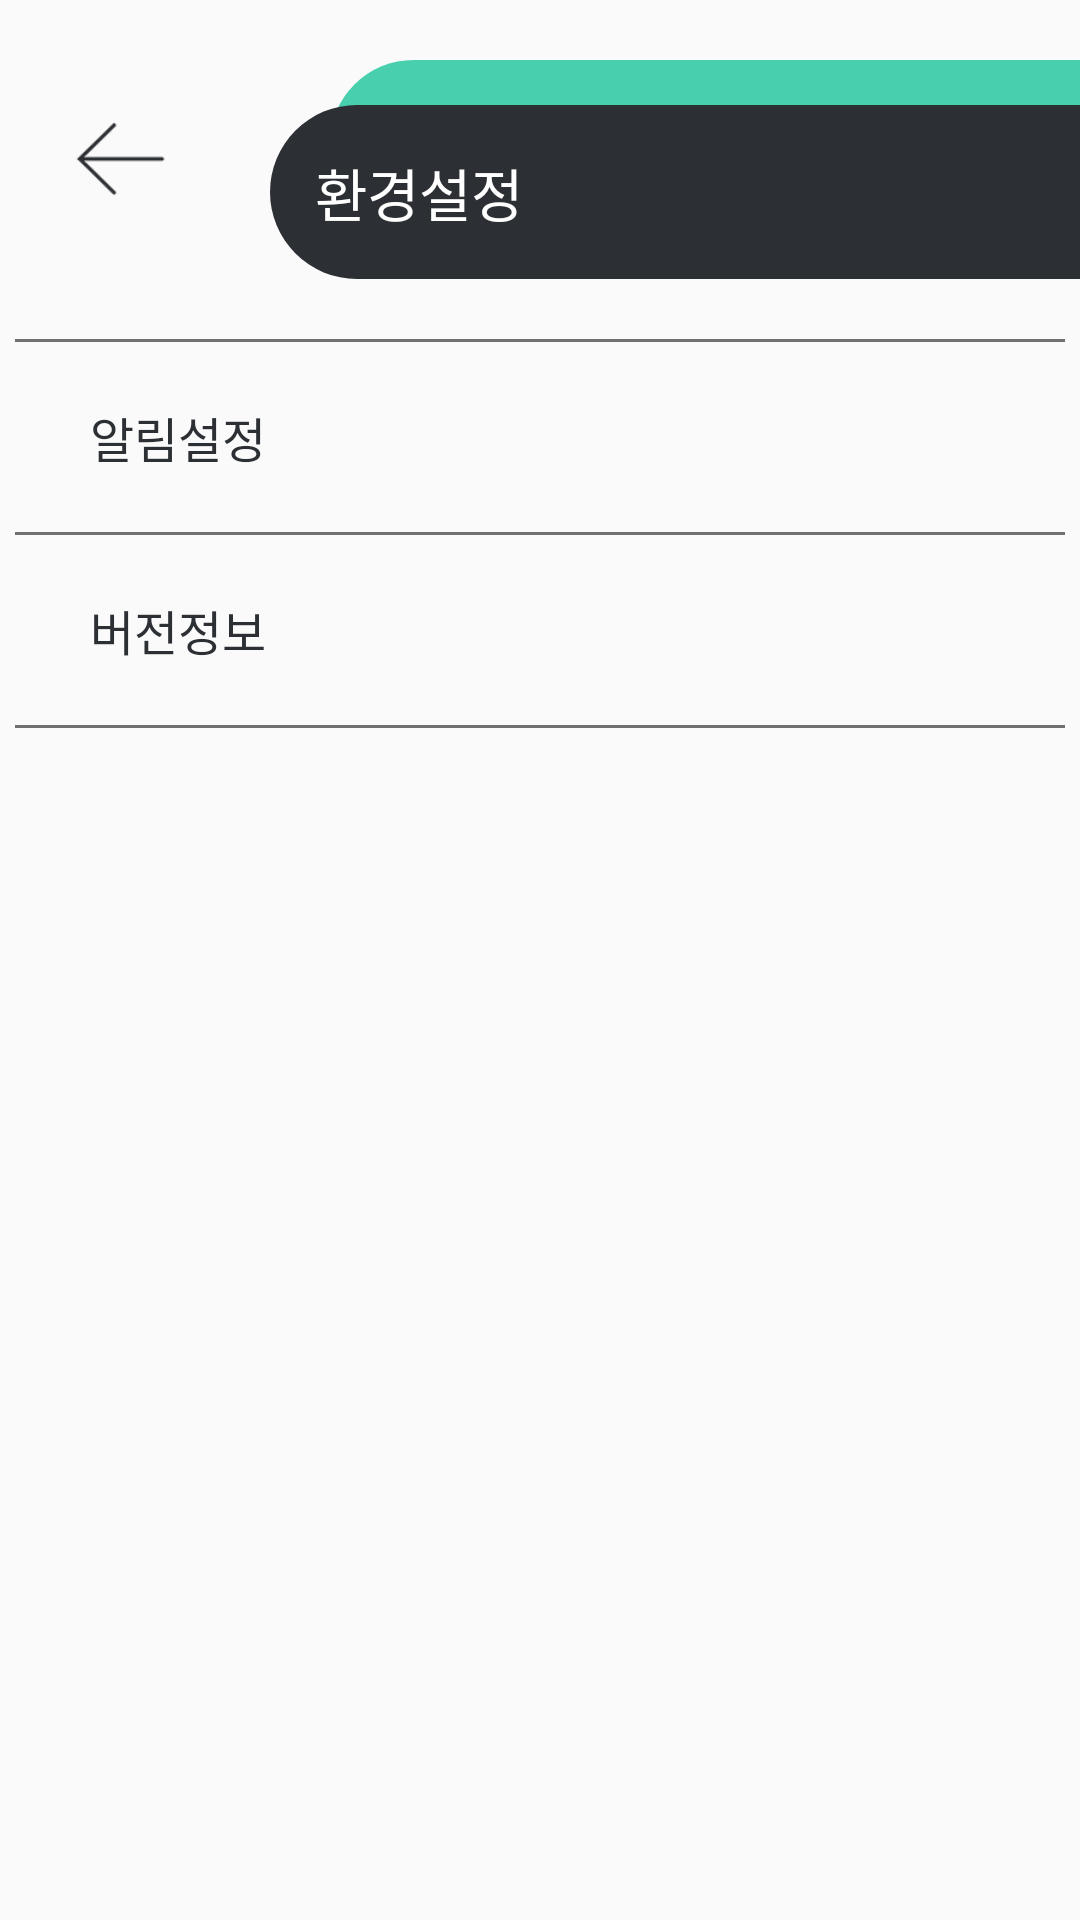

Screen size 1080 x 1920. Icon name, then its center in pixels as (x,y):
back arrow: (121,159)
